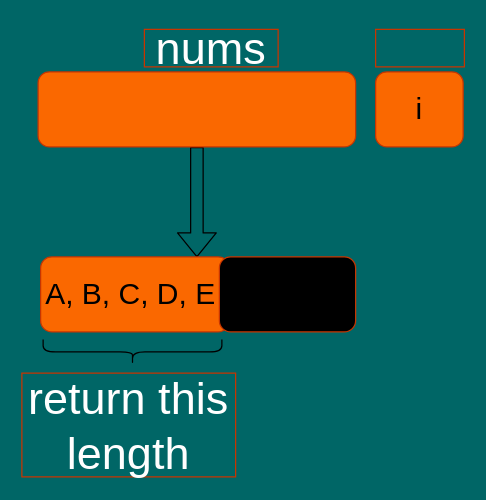
The diagram is 486 pixels wide and 500 high, and some of its shapes have lost their labels. The centre of each missing label's shape, as x and y in pixels:
A , B , i , C, i ,D, E, F, i: the point at 196,109
val: the point at 419,47
